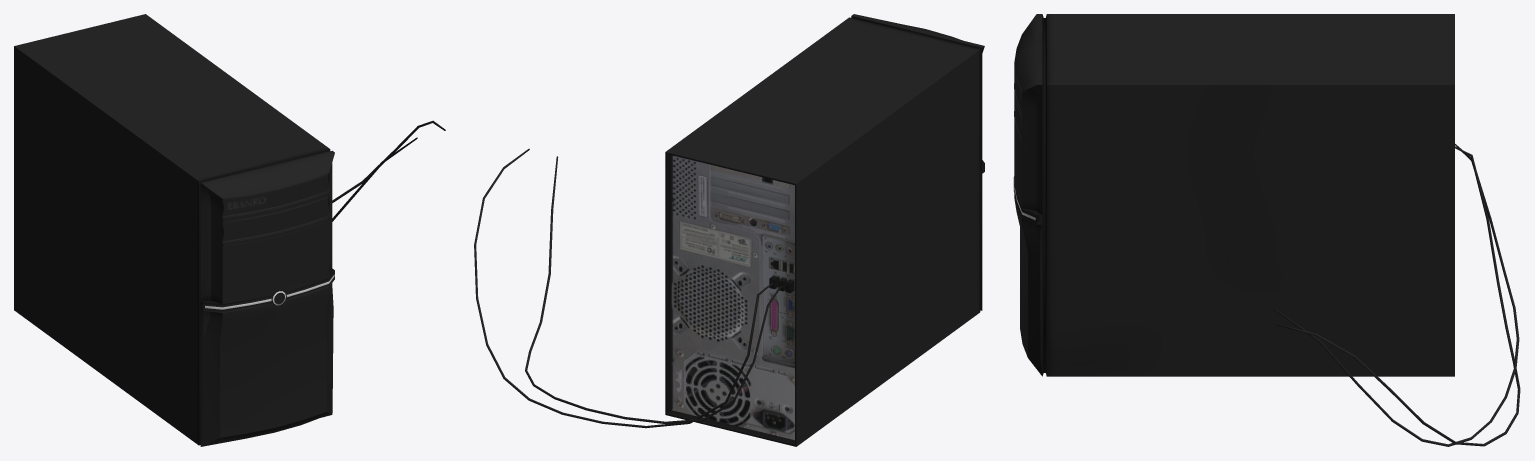
The model's file is Chasis Gamma Media.fbx.
3 renders of one model, left to right at view 1: azimuth 30°, elevation 25°; view 2: azimuth 150°, elevation 25°; view 3: azimuth 270°, elevation 25°, orthographic. The views are drawn at different scales.
Visible parts, largest first — view 1: Chasis Gamma Media; view 2: Chasis Gamma Media; view 3: Chasis Gamma Media.
Part boxes in pixels (x1=…): Chasis Gamma Media: x1=14, y1=14, x2=445, y2=446; Chasis Gamma Media: x1=474, y1=14, x2=984, y2=446; Chasis Gamma Media: x1=1013, y1=14, x2=1520, y2=446.
Bounding box in the file's own units: 114 × 80.19 × 126.
